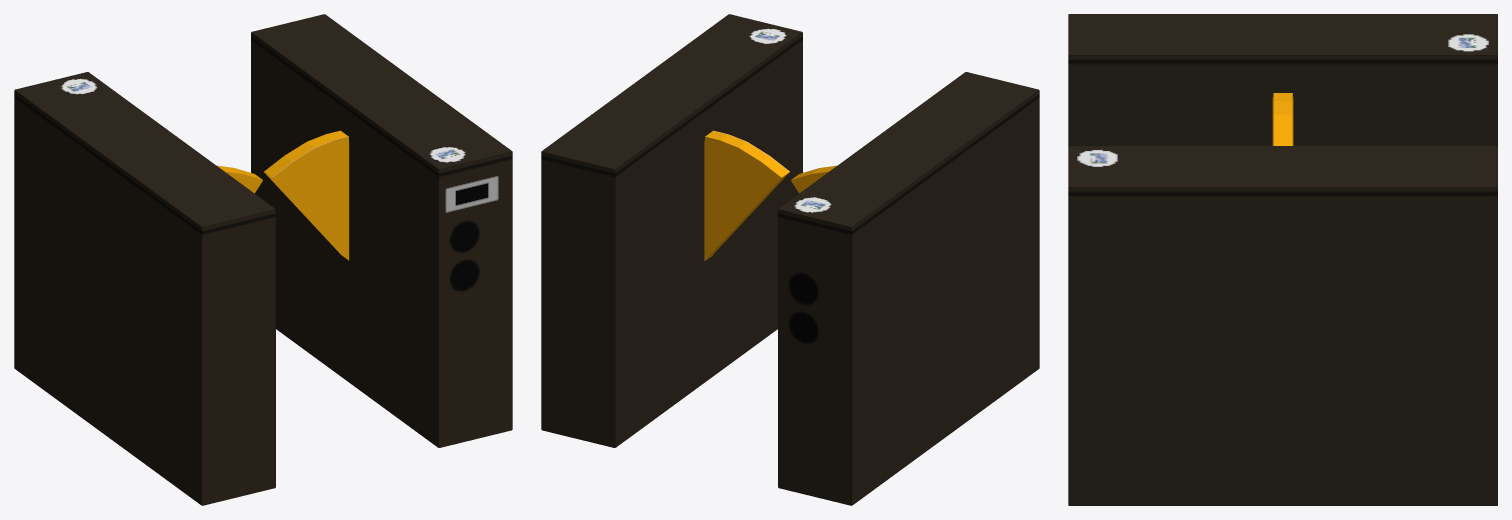
File: dc_metro_fare_gate_3_twoway_closed.obj
The picture shows the model from 3 angles, left to right: view 1: azimuth 30°, elevation 25°; view 2: azimuth 150°, elevation 25°; view 3: azimuth 270°, elevation 25°; orthographic projection. The views are drawn at different scales.
Parts seen in each view (by area): view 1: cube; view 2: cube; view 3: cube.
Part boxes in pixels (x1,y1,x2,y2): cube: (14, 14, 512, 505); cube: (541, 14, 1039, 505); cube: (1068, 14, 1497, 505).
Size of the model in its own units: 1.31 by 1.13 by 1.38.
Materials: 1 (1 with a texture image).
